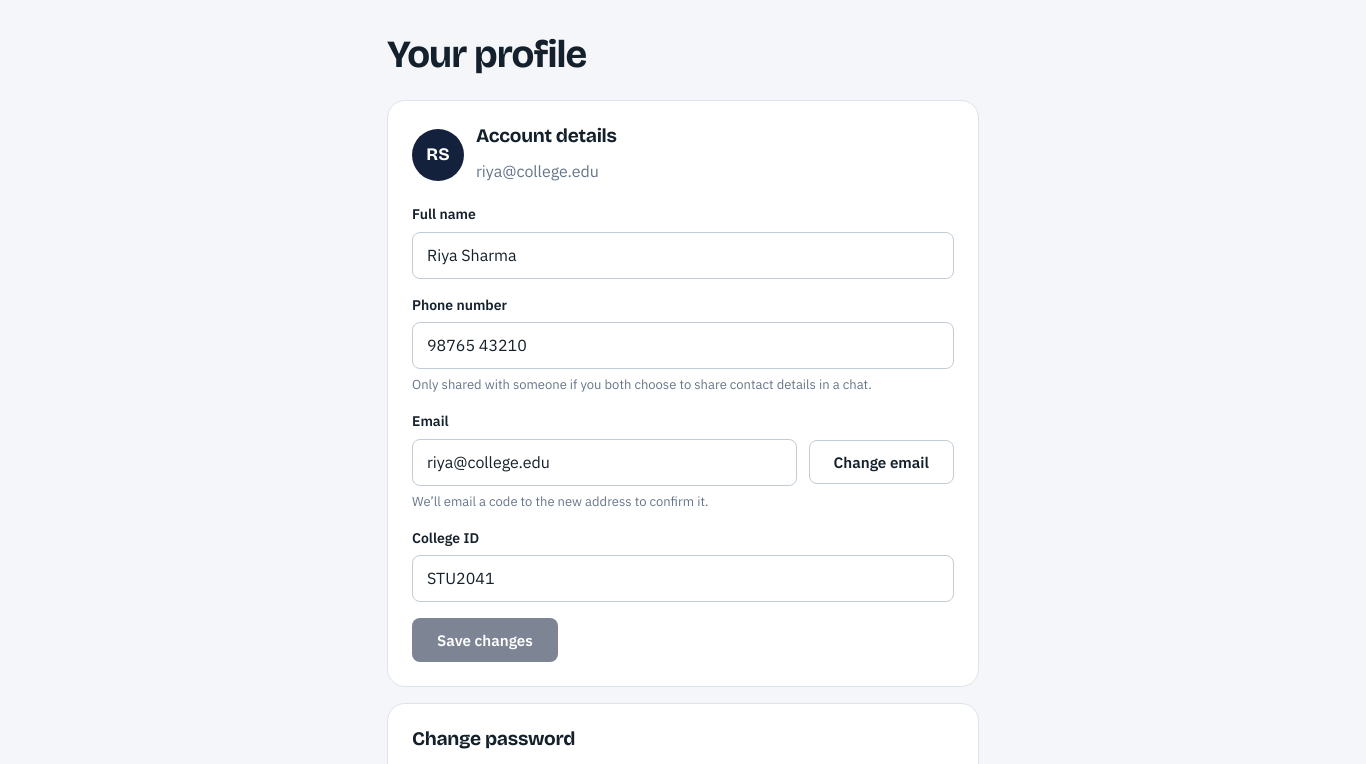
Test case: Profile — change email › a wrong password from the server stays on step 1 with its message
This screenshot has width=1366, height=764.
Click the button "Change email" at (881, 462), box [808, 440, 954, 484]
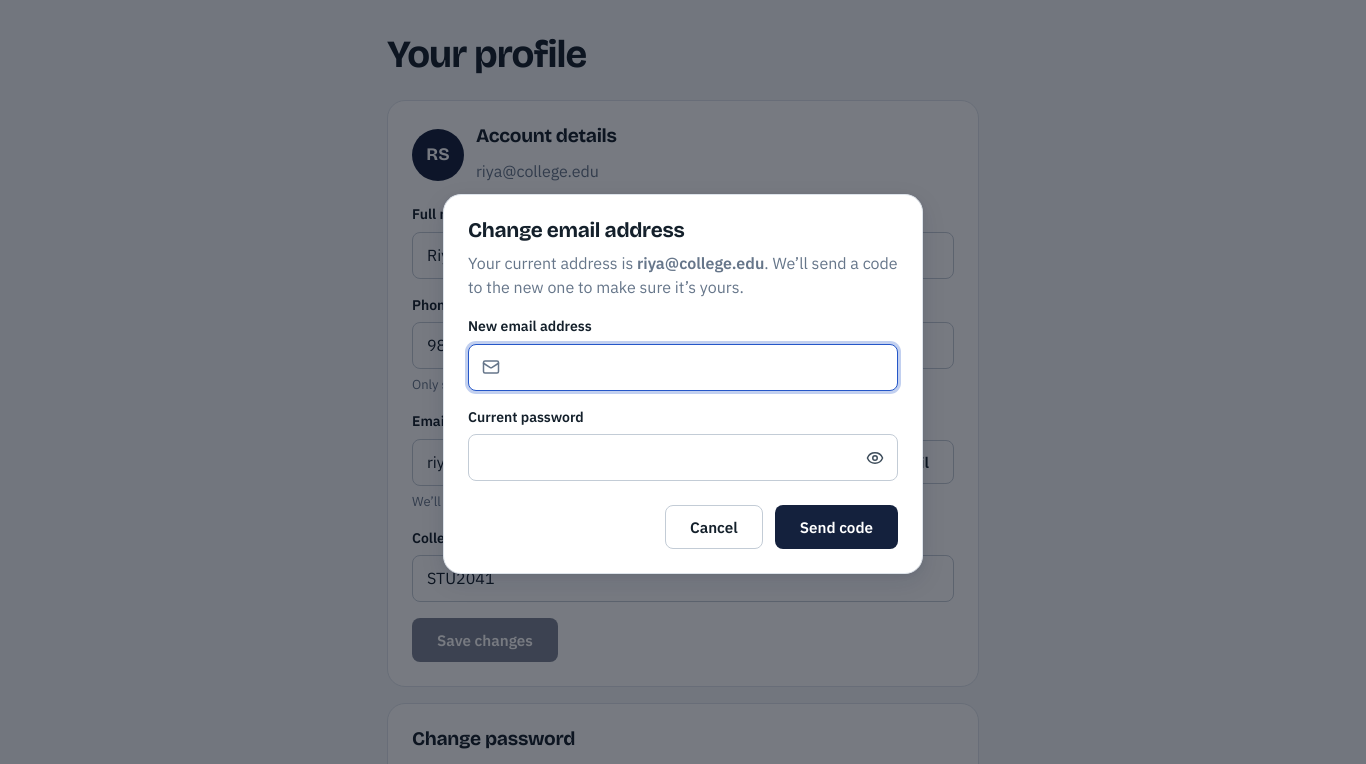
Type "new@college.edu" into the field labelled "New email address" at (683, 367), box [468, 344, 898, 391]
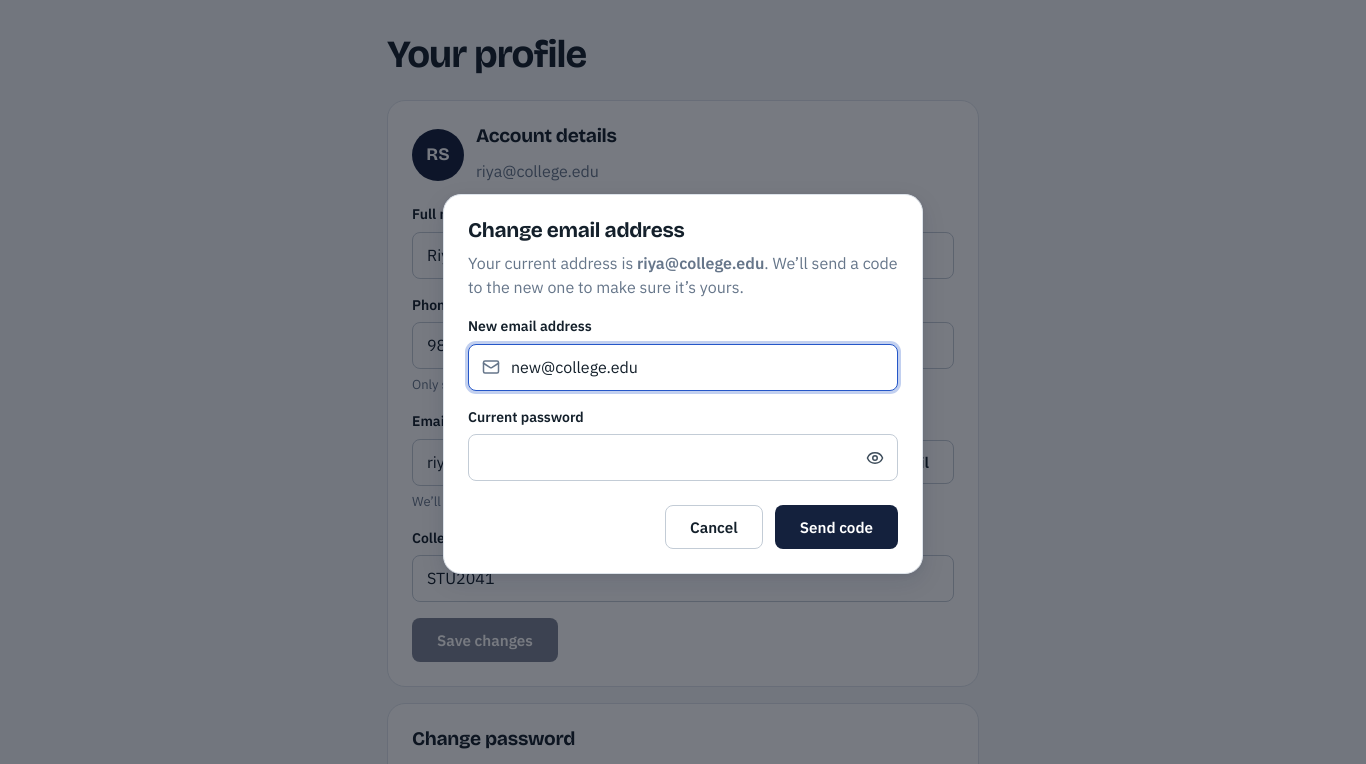
Type "bad" into the password field labelled "Current password" at (683, 458), box [468, 434, 898, 481]
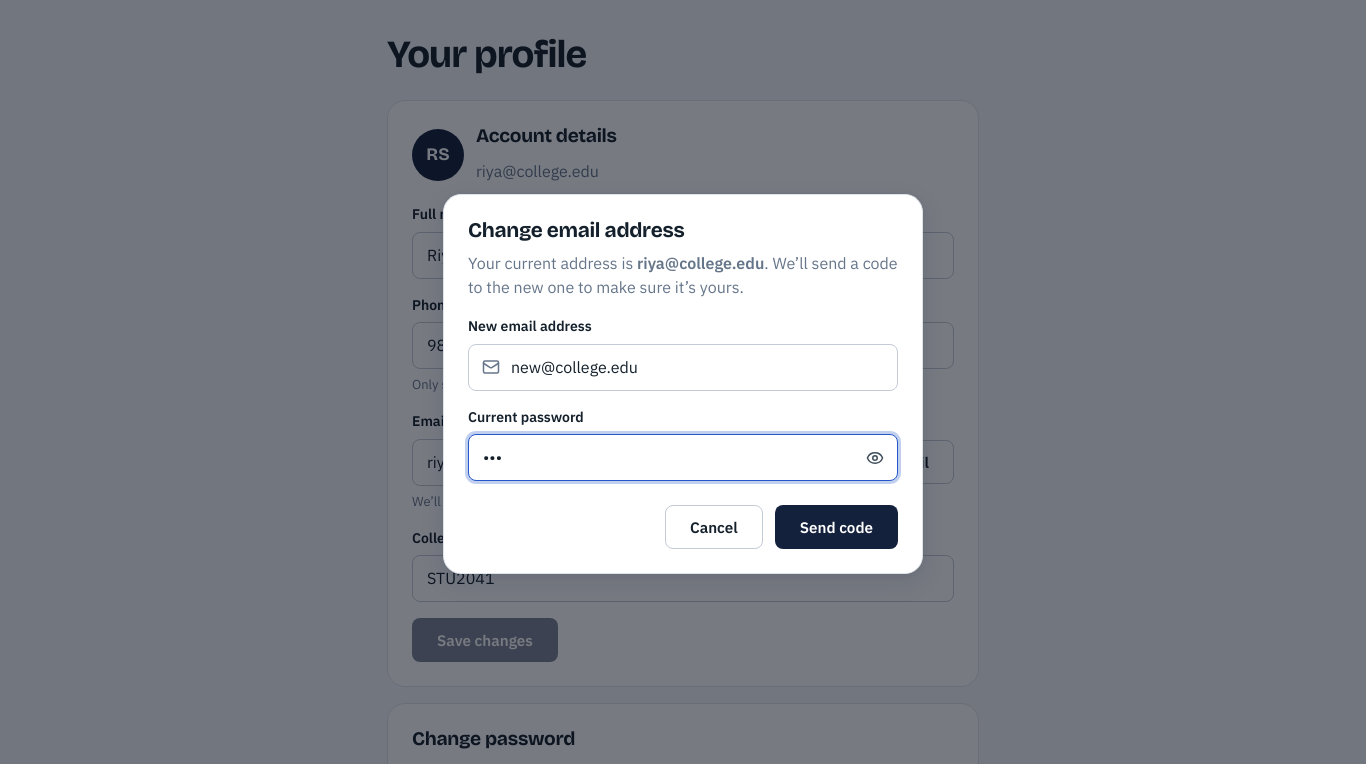
Click the button "Send code" at (836, 527), box [775, 505, 898, 549]
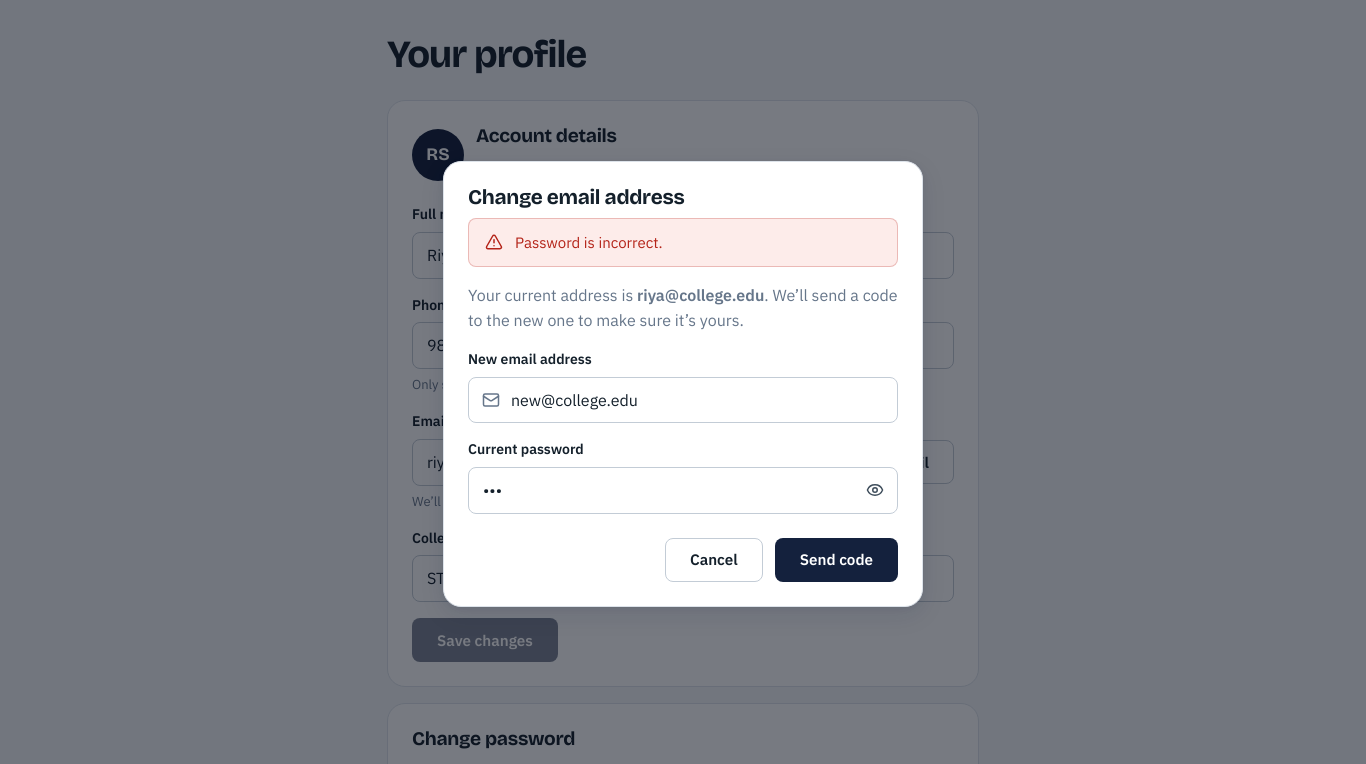
Expected: the message reads "Password is incorrect.", [515, 233, 663, 252]
